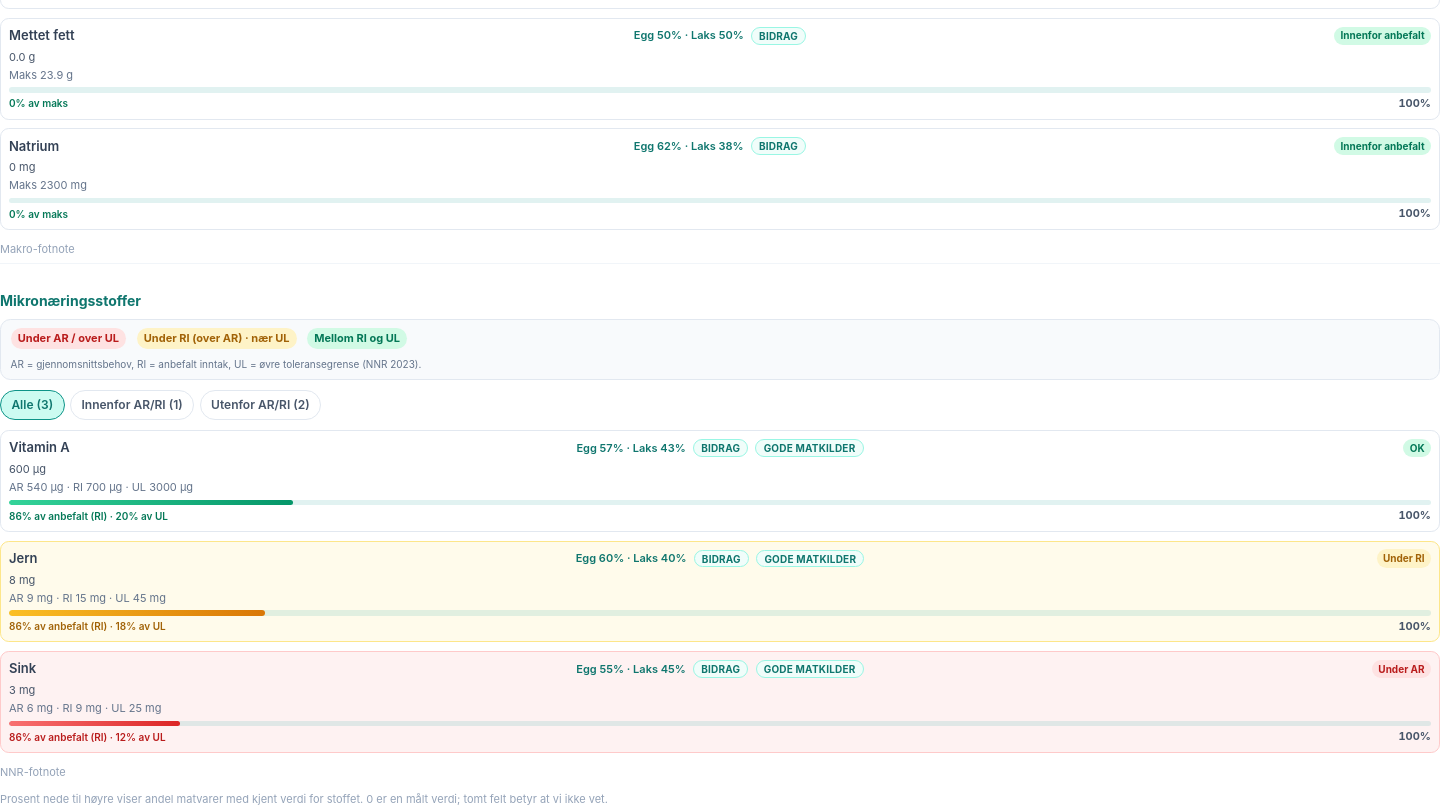
Test: NutritionReportStackedBody › can show only values within or outside AR/RI
(page scrolled)
Click the button "Innenfor AR/RI (1)".
click(132, 405)  # box [70, 390, 194, 420]
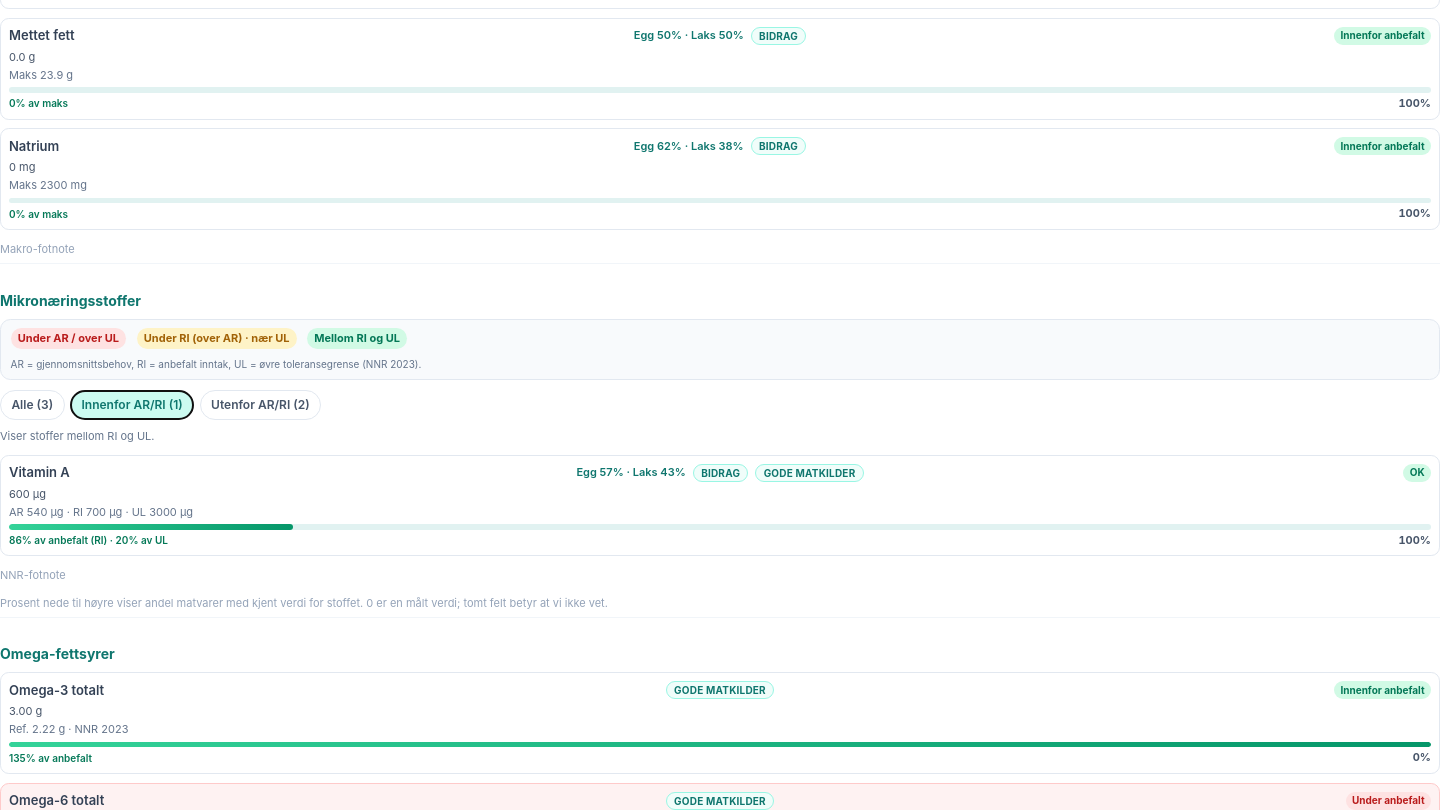
expect the text "Vitamin A" is shown: met, box [9, 463, 70, 482]
expect the text "Jern" is gone: met
expect the text "Sink" is gone: met
Click the button "Utenfor AR/RI (2)".
click(260, 405)  # box [200, 390, 321, 420]
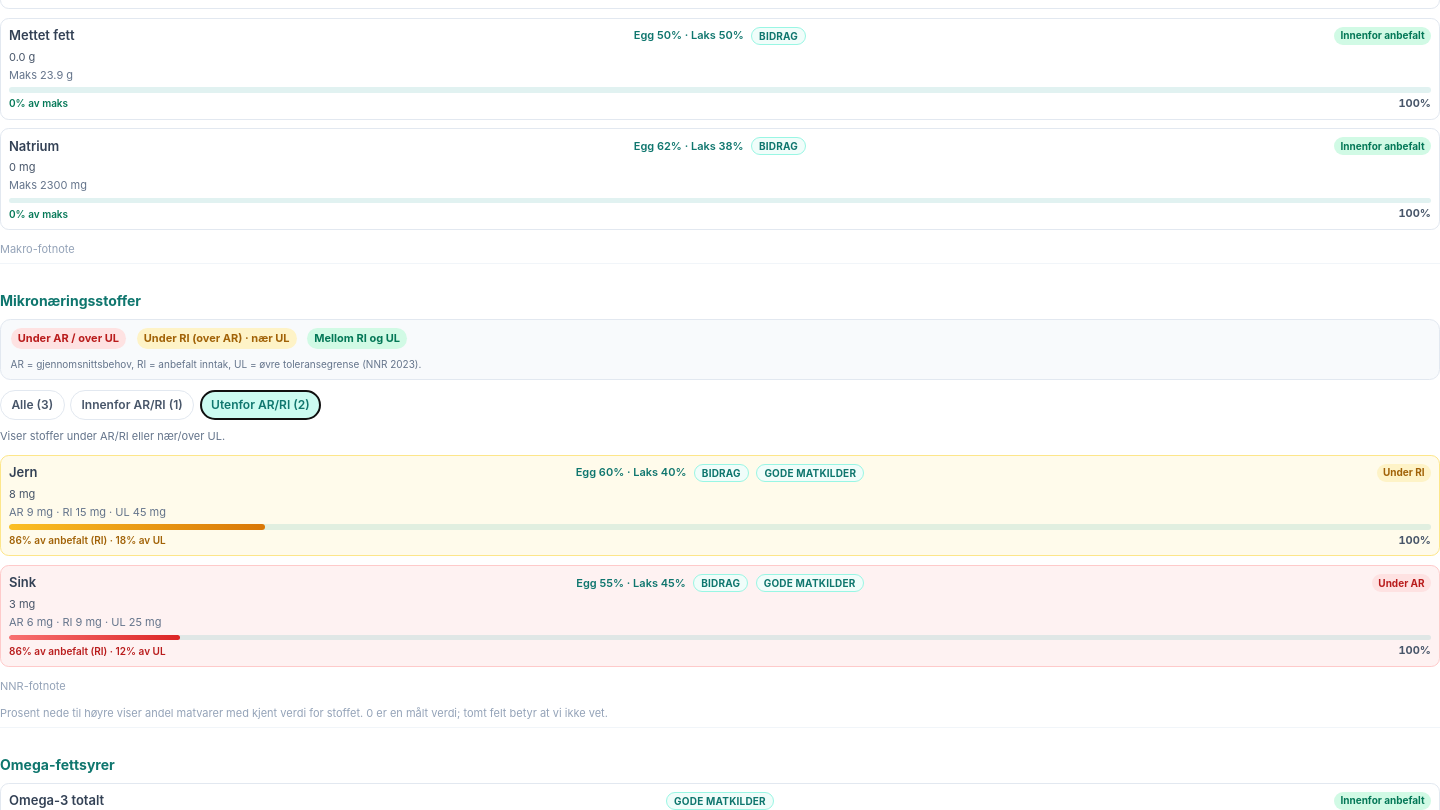
expect the text "Vitamin A" is gone: met
expect the text "Jern" is shown: met, box [9, 463, 38, 482]
expect the text "Sink" is shown: met, box [9, 573, 36, 593]
